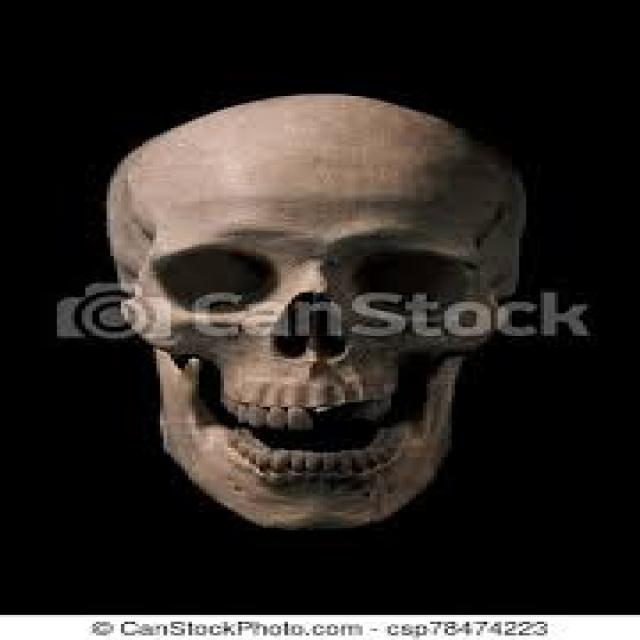skull: (84, 79, 557, 536)
